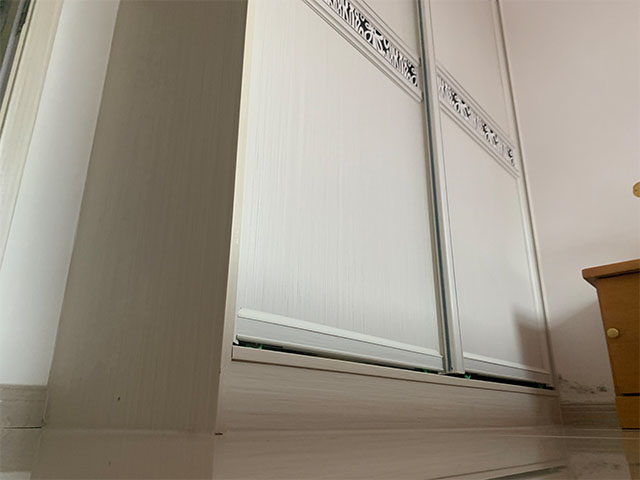cabinet: (40, 1, 564, 435), (581, 257, 640, 430)
